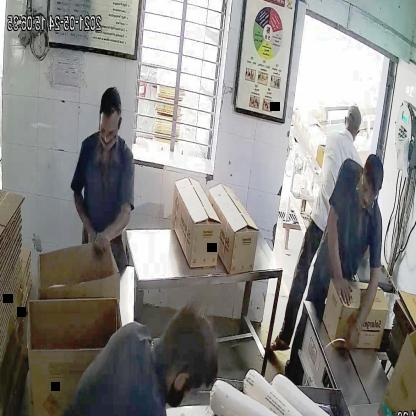goggles: (95, 119, 123, 143)
